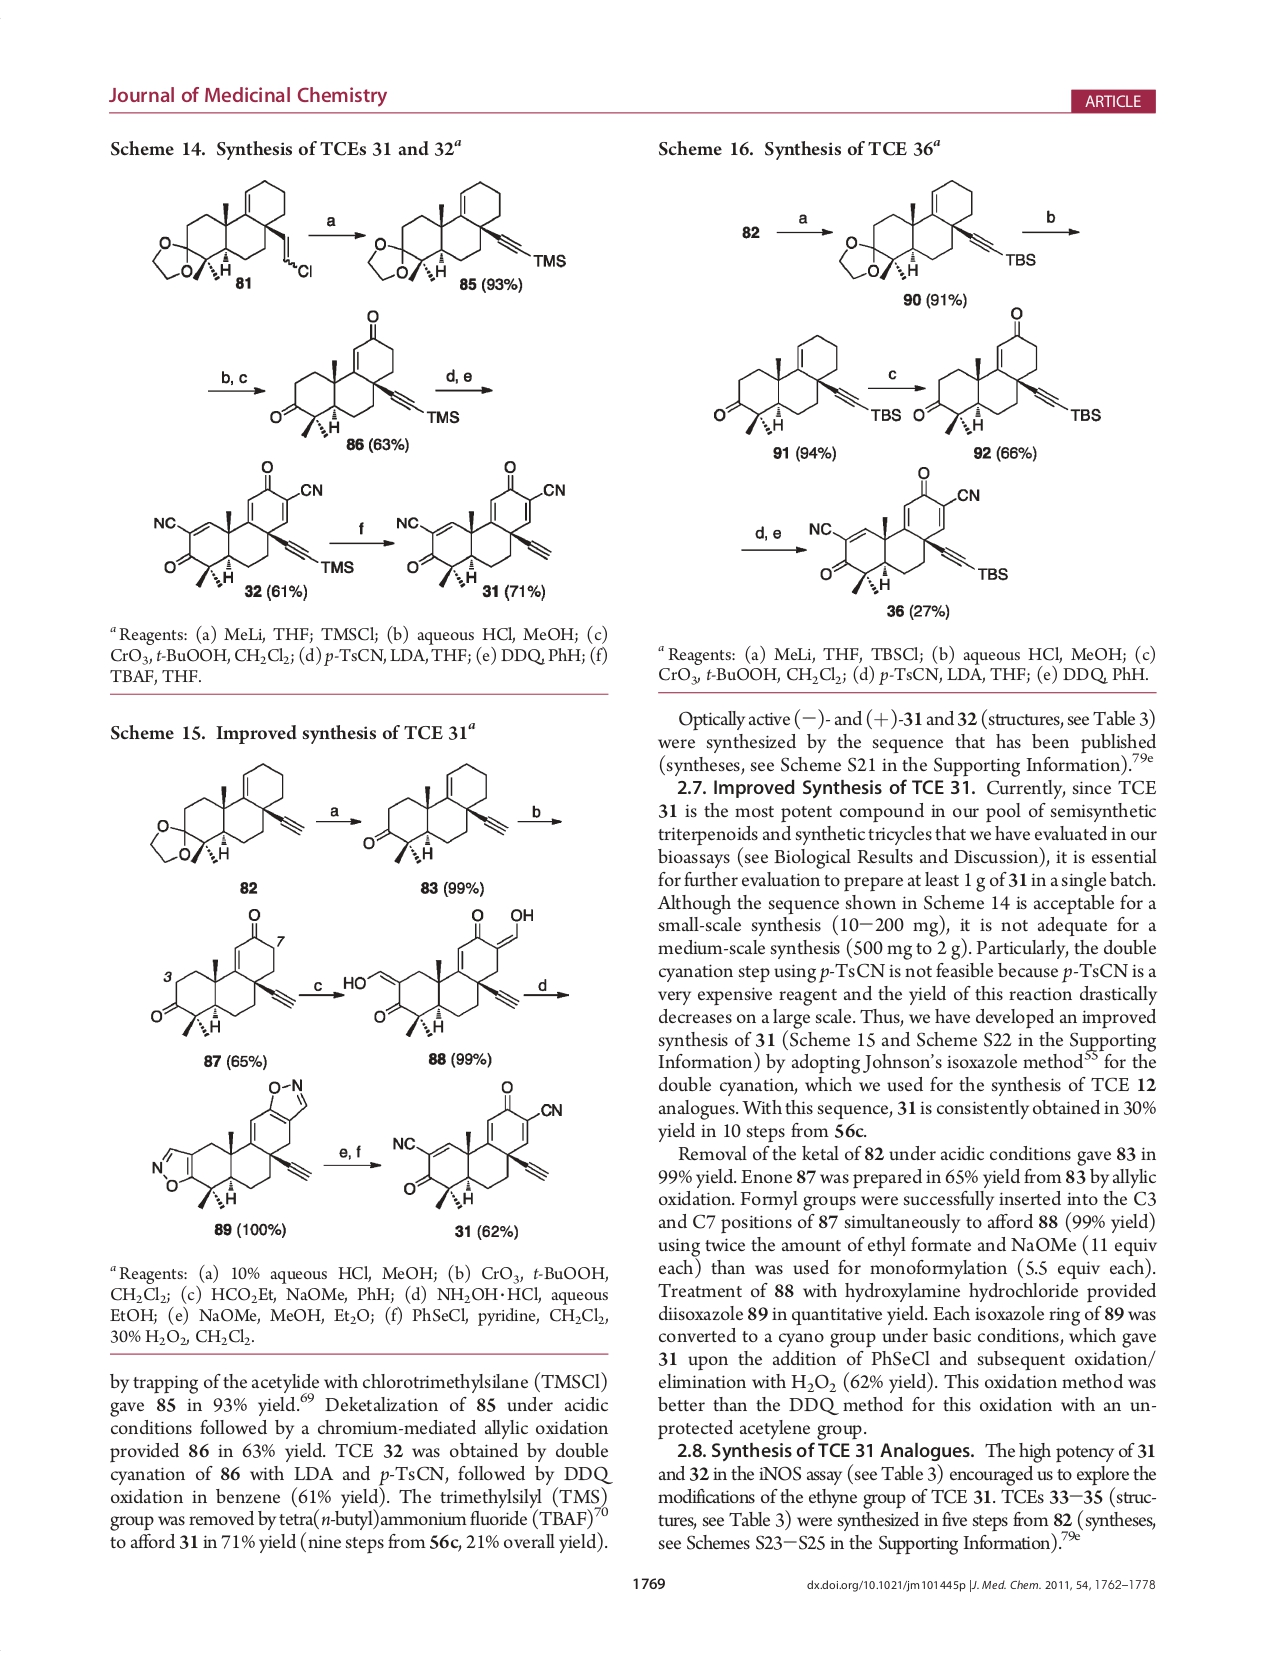exist_molecular: (152, 457, 356, 589), (809, 463, 1009, 596), (340, 904, 536, 1039), (269, 307, 461, 439), (912, 305, 1104, 435), (390, 1077, 565, 1214), (395, 457, 569, 589), (149, 1077, 316, 1210), (836, 176, 1040, 281), (366, 178, 568, 283), (148, 906, 297, 1043), (711, 331, 903, 438), (148, 177, 316, 290), (144, 758, 309, 864), (360, 759, 513, 864)
